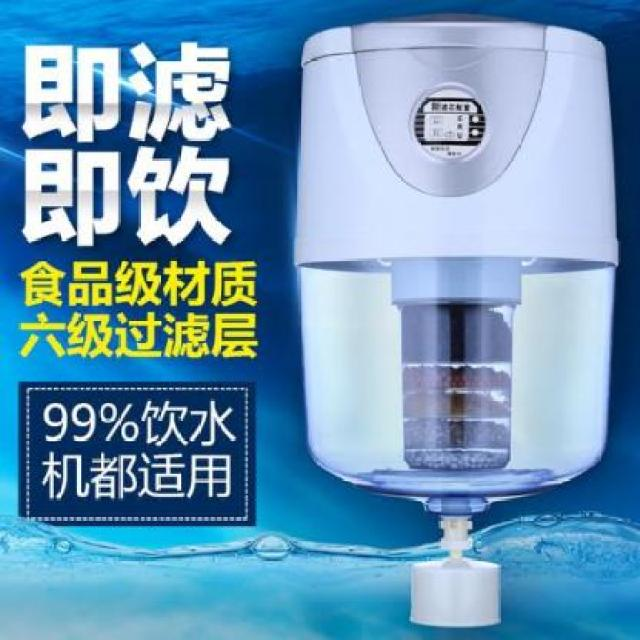coolerbottle: (289, 12, 625, 512)
